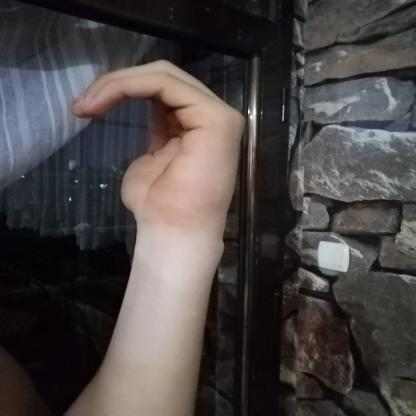HAA: (54, 45, 264, 248)
